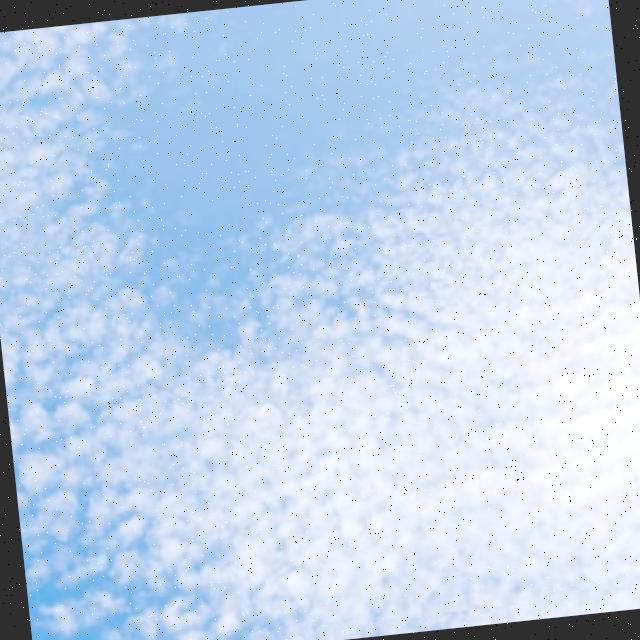Cc: (16, 39, 640, 640)
